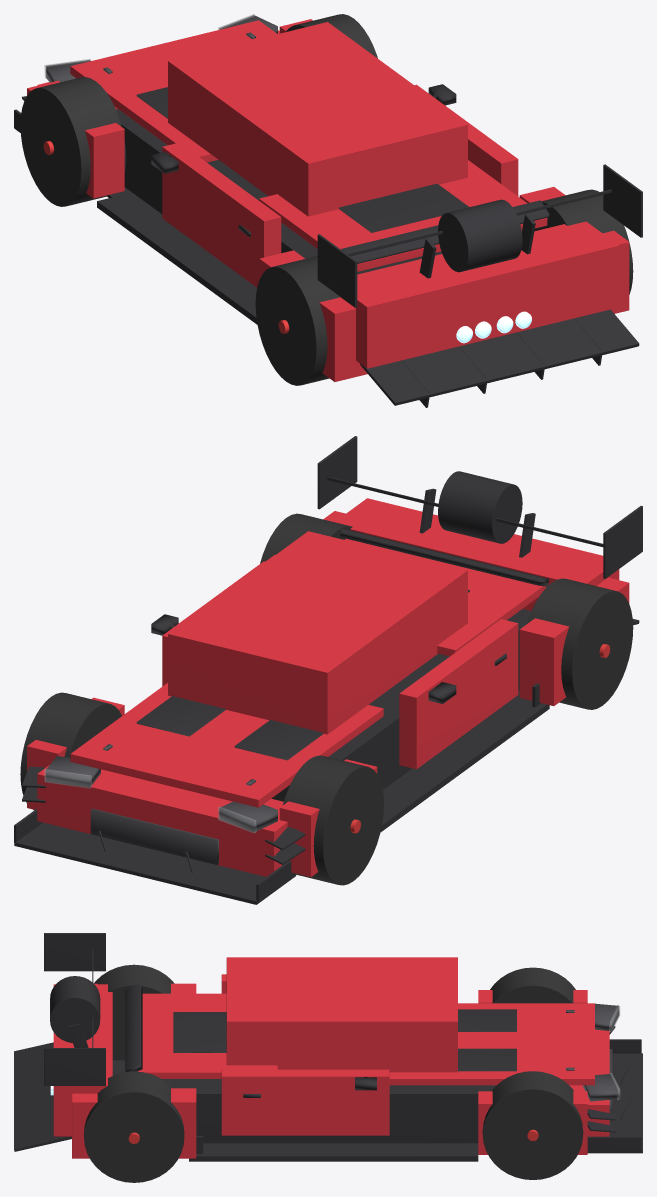
Rendered from modular_gt3_apex_refined.glb.
3 views of the same model, one above another, from view 1: azimuth 30°, elevation 25°; view 2: azimuth 150°, elevation 25°; view 3: azimuth 270°, elevation 25° (orthographic). The views are drawn at different scales.
Parts seen in each view (by area): view 1: Greenhouse_Roof_Canopy, Rear_Bumper_Fascia, Diffuser_Curved_Ramp, Door_Main_Skin_Left, Tire_Slick_Rubber_FL, Tire_Slick_Rubber_RL, Bonnet_Hood_Skin, Dicky_Engine_Cover_Skin, Side_Skirts_Left, Wing_Main_Aerofoil, Chassis_Carbon_Monocoque, Dicky_Cooling_Louvers (+10 smaller); view 2: Greenhouse_Roof_Canopy, Bonnet_Hood_Skin, Front_Bumper_Fascia, Door_Main_Skin_Left, Tire_Slick_Rubber_RL, Tire_Slick_Rubber_FL, Rear_Bumper_Fascia, Front_Splitter_Tray, Side_Skirts_Left, Wing_Main_Aerofoil, Chassis_Carbon_Monocoque, Dicky_Engine_Cover_Skin (+16 smaller); view 3: Greenhouse_Roof_Canopy, Door_Main_Skin_Right, Bonnet_Hood_Skin, Chassis_Carbon_Monocoque, Tire_Slick_Rubber_RR, Tire_Slick_Rubber_FR, Dicky_Engine_Cover_Skin, Side_Skirts_Right, Diffuser_Curved_Ramp, Wing_Main_Aerofoil, Rear_Bumper_Fascia, Front_Splitter_Tray (+17 smaller).
Boxes of the visible parts, <box> form: Greenhouse_Roof_Canopy: <box>168,22,467,216</box>; Rear_Bumper_Fascia: <box>340,221,619,368</box>; Diffuser_Curved_Ramp: <box>360,309,639,405</box>; Door_Main_Skin_Left: <box>162,142,281,287</box>; Tire_Slick_Rubber_FL: <box>20,77,126,206</box>; Tire_Slick_Rubber_RL: <box>255,256,339,385</box>; Bonnet_Hood_Skin: <box>70,20,277,162</box>; Dicky_Engine_Cover_Skin: <box>259,160,547,271</box>; Side_Skirts_Left: <box>97,194,257,324</box>; Wing_Main_Aerofoil: <box>438,199,522,272</box>; Chassis_Carbon_Monocoque: <box>116,109,441,274</box>; Dicky_Cooling_Louvers: <box>339,183,469,232</box>; Greenhouse_Roof_Canopy: <box>168,531,467,734</box>; Bonnet_Hood_Skin: <box>70,683,383,807</box>; Front_Bumper_Fascia: <box>37,765,287,876</box>; Door_Main_Skin_Left: <box>399,619,518,769</box>; Tire_Slick_Rubber_RL: <box>527,578,633,709</box>; Tire_Slick_Rubber_FL: <box>283,755,383,885</box>; Rear_Bumper_Fascia: <box>334,498,619,610</box>; Front_Splitter_Tray: <box>14,822,295,904</box>; Side_Skirts_Left: <box>380,696,549,832</box>; Wing_Main_Aerofoil: <box>438,471,522,543</box>; Chassis_Carbon_Monocoque: <box>271,609,531,801</box>; Dicky_Engine_Cover_Skin: <box>344,538,546,656</box>; Greenhouse_Roof_Canopy: <box>226,957,457,1072</box>; Door_Main_Skin_Right: <box>221,1069,389,1135</box>; Bonnet_Hood_Skin: <box>389,1003,594,1085</box>; Chassis_Carbon_Monocoque: <box>162,1079,496,1143</box>; Tire_Slick_Rubber_RR: <box>84,1071,184,1182</box>; Tire_Slick_Rubber_FR: <box>482,1071,583,1179</box>; Dicky_Engine_Cover_Skin: <box>137,993,277,1078</box>; Side_Skirts_Right: <box>189,1144,478,1161</box>; Diffuser_Curved_Ramp: <box>14,1042,71,1151</box>; Wing_Main_Aerofoil: <box>50,976,100,1042</box>; Rear_Bumper_Fascia: <box>53,984,112,1136</box>; Front_Splitter_Tray: <box>587,1053,642,1153</box>.
Bounding box in the file's own units: 2.09 × 0.99 × 4.26.
